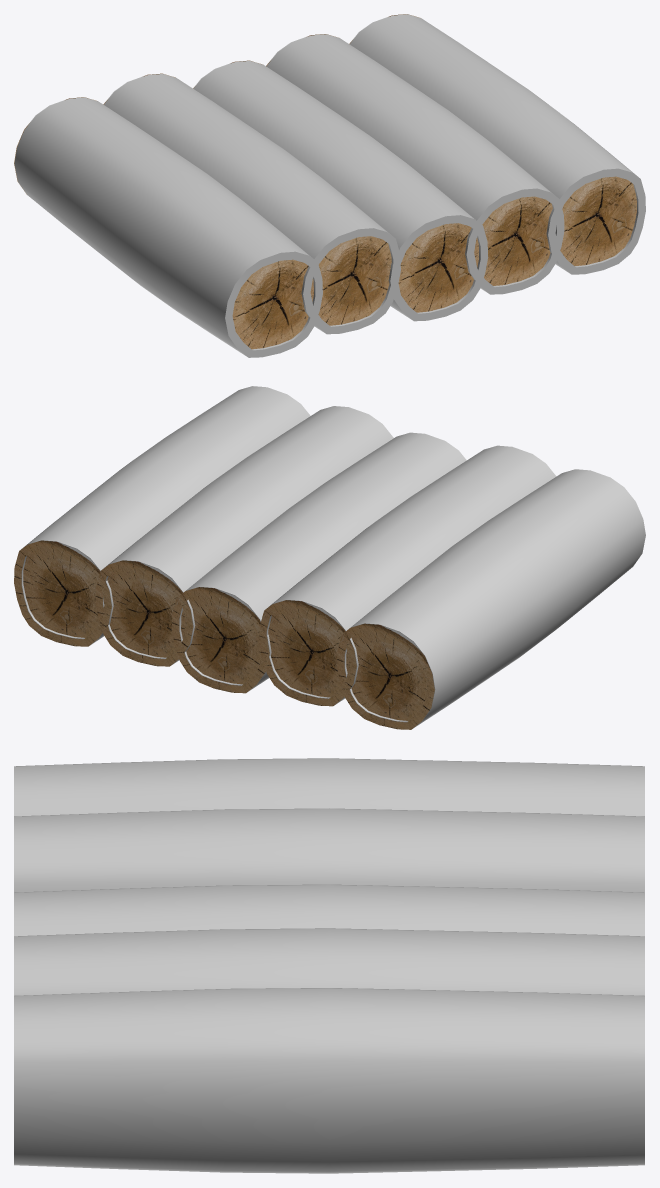
Rendered from woodenPlanks.fbx.
3 views of the same model, one above another, from view 1: azimuth 30°, elevation 25°; view 2: azimuth 150°, elevation 25°; view 3: azimuth 270°, elevation 25° (orthographic). The views are drawn at different scales.
Visible parts, largest first — view 1: polySurface1, polySurface7, polySurface3, polySurface9, polySurface5, TopCover4, TopCover1, TopCover, TopCover2, TopCover3; view 2: polySurface1, polySurface7, polySurface3, polySurface9, polySurface5, BottomCover4, BottomCover1, BottomCover, BottomCover2, BottomCover3, polySurface2, polySurface10 (+3 smaller); view 3: polySurface9, polySurface3, polySurface7, polySurface1, polySurface5.
Part boxes in pixels (left/top/right/bottom): polySurface1: left=14, top=97, right=322, bottom=357; polySurface7: left=266, top=34, right=564, bottom=294; polySurface3: left=104, top=74, right=400, bottom=334; polySurface9: left=349, top=14, right=645, bottom=274; polySurface5: left=193, top=61, right=488, bottom=321; TopCover4: left=560, top=176, right=636, bottom=265; TopCover1: left=310, top=236, right=391, bottom=325; TopCover: left=232, top=259, right=313, bottom=349; TopCover2: left=398, top=223, right=478, bottom=312; TopCover3: left=474, top=196, right=552, bottom=285; polySurface1: left=344, top=469, right=645, bottom=728; polySurface7: left=103, top=406, right=393, bottom=664; polySurface3: left=266, top=445, right=556, bottom=705; polySurface9: left=21, top=386, right=310, bottom=645; polySurface5: left=179, top=432, right=466, bottom=692; BottomCover4: left=23, top=548, right=99, bottom=637; BottomCover1: left=268, top=608, right=349, bottom=697; BottomCover: left=346, top=631, right=427, bottom=720; BottomCover2: left=181, top=595, right=261, bottom=684; BottomCover3: left=107, top=568, right=185, bottom=657; polySurface2: left=337, top=623, right=434, bottom=729; polySurface10: left=14, top=540, right=111, bottom=646; polySurface9: left=14, top=988, right=644, bottom=1173; polySurface3: left=14, top=808, right=644, bottom=892; polySurface7: left=14, top=928, right=644, bottom=995; polySurface1: left=14, top=758, right=644, bottom=816; polySurface5: left=14, top=884, right=644, bottom=936.
Size of the model in its own units: 354 by 92.98 by 301.
